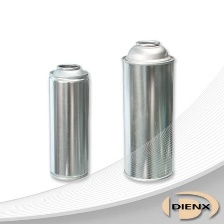bottle: (117, 33, 180, 187), (45, 59, 97, 184)
